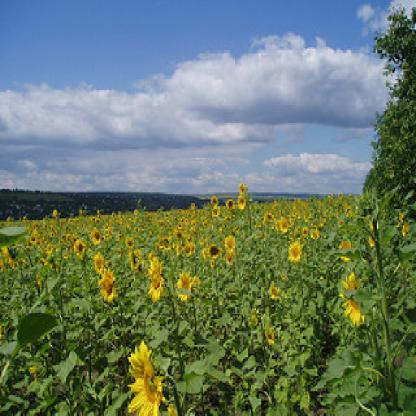SUN FLOWER: (9, 145, 409, 405)
